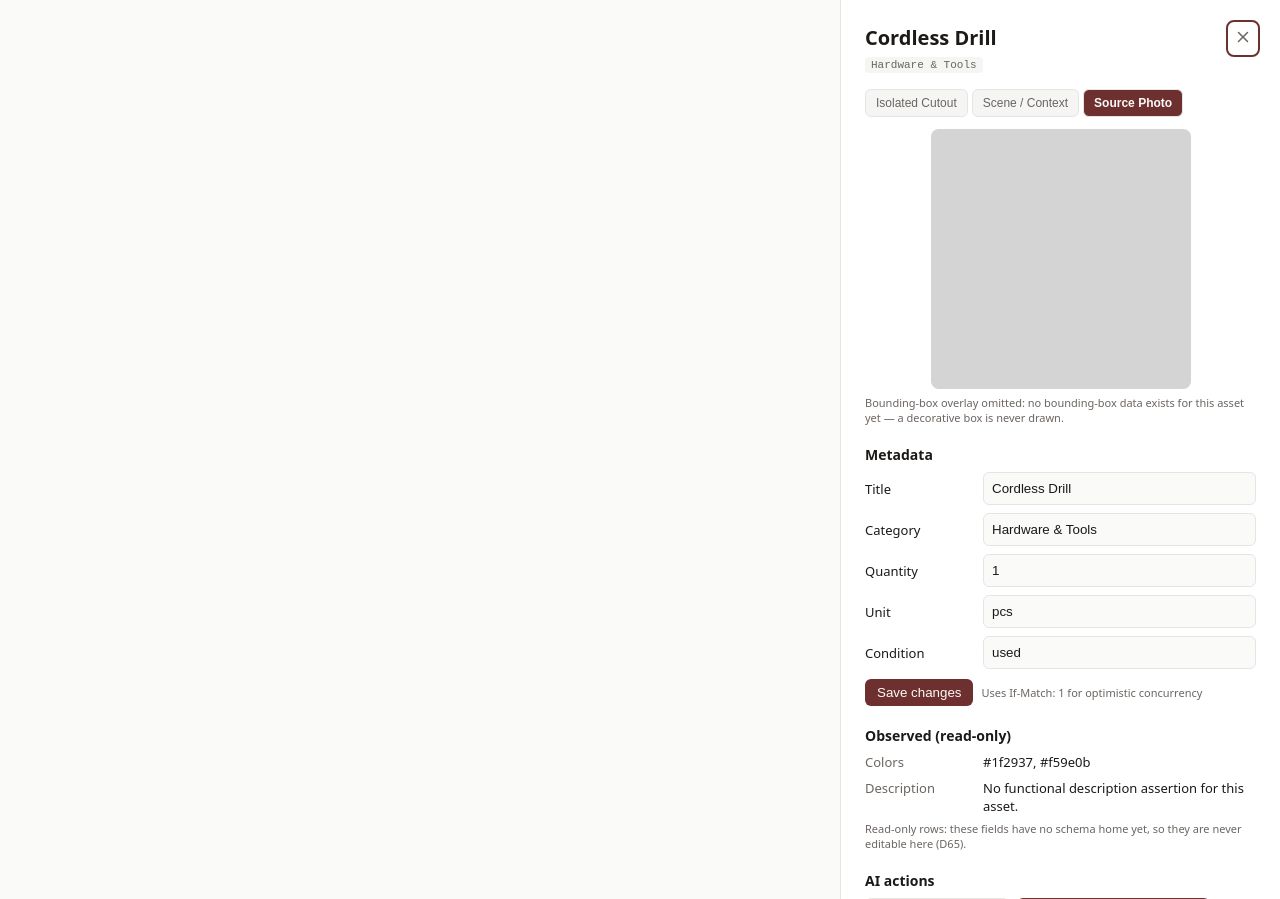
ItemInspectorDrawer › the scene tab states scene rendering is not available and draws no bounding box
Click the tab "Scene / Context".
click(1025, 103)  # box [972,89,1079,117]
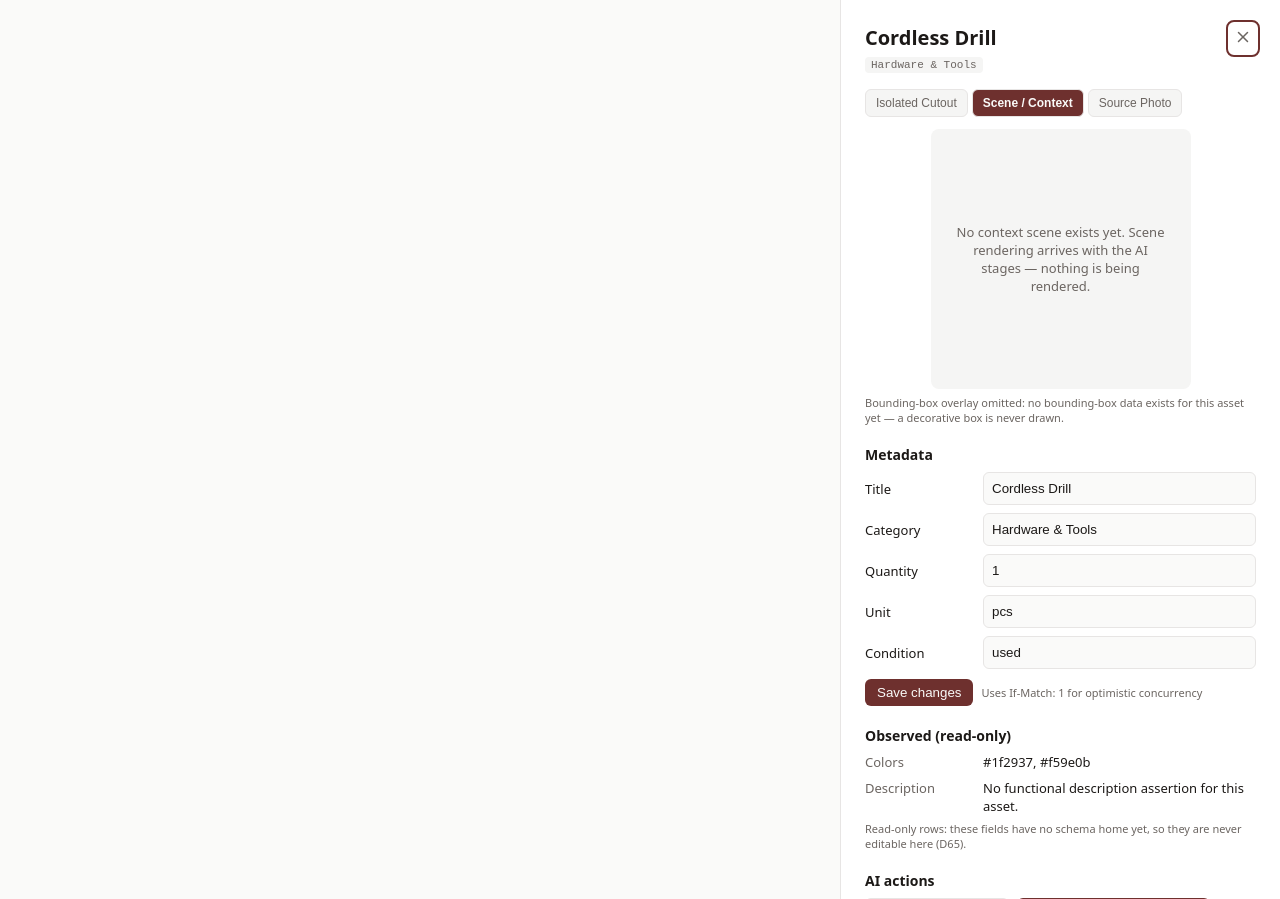
Expected: the text "Bounding-box overlay omitted" is shown, [865,395,1244,425]
Now the text with test id "scene-honest-state" shows "Scene rendering arrives with the AI stages", box [956,223,1164,295]
